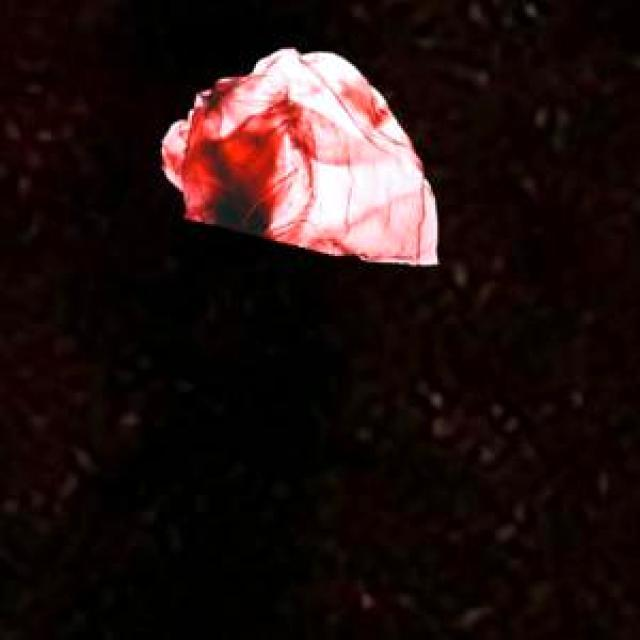Plastic_Bag: (160, 45, 433, 262)
